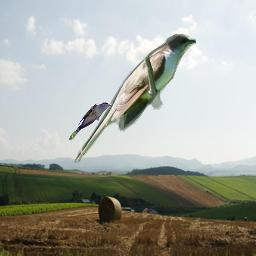Cuckoo: (74, 34, 196, 164), (69, 102, 113, 140)
